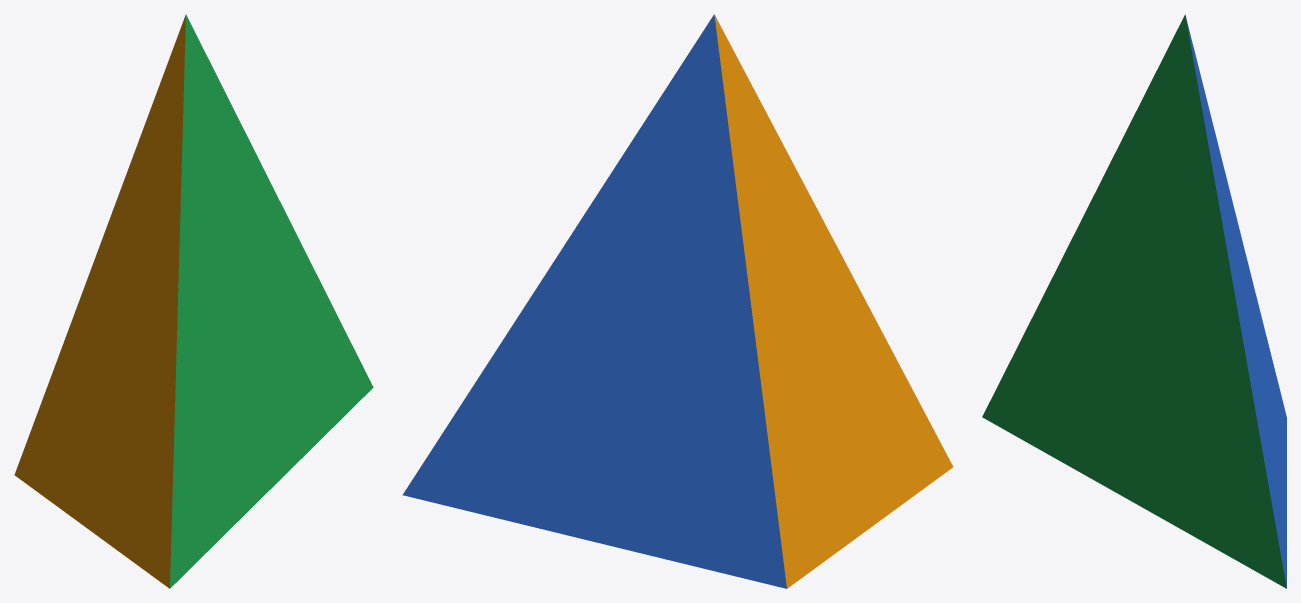
Rendered from limas-segitiga-siku.glb.
3 renders of one model, left to right at view 1: azimuth 30°, elevation 25°; view 2: azimuth 150°, elevation 25°; view 3: azimuth 270°, elevation 25°, orthographic. The views are drawn at different scales.
Visible parts, largest first — view 1: tegak2, tegak3; view 2: tegak1, tegak3; view 3: tegak2, tegak1.
Part boxes in pixels (box(x1,y1,x2,y2)): tegak2: box(170, 14, 373, 588); tegak3: box(14, 14, 185, 588); tegak1: box(402, 14, 786, 588); tegak3: box(714, 14, 953, 588); tegak2: box(982, 14, 1286, 588); tegak1: box(1185, 16, 1286, 587).
Bounding box in the file's own units: 1.6 × 2 × 1.2.
